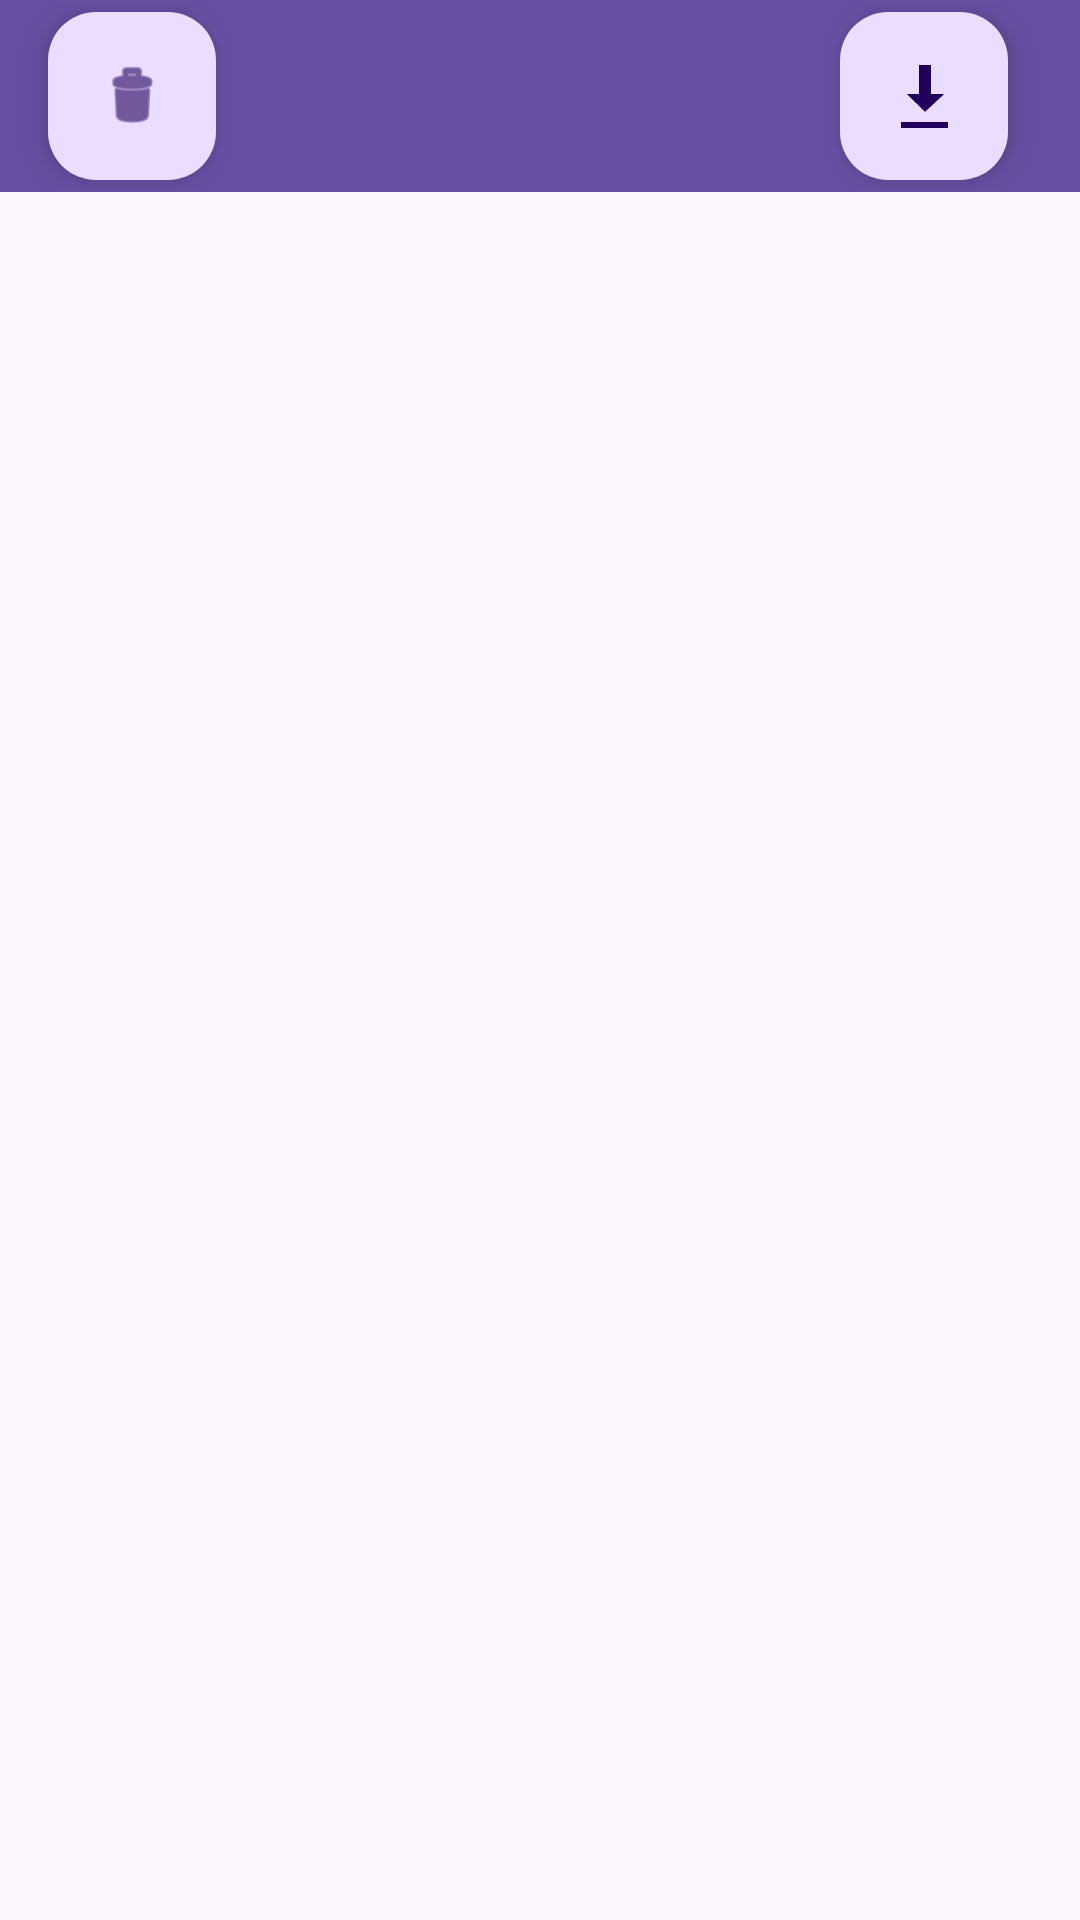

Icon bounding boxes for this 1080x1920 phone screenshot, format bbox(x1, y1, x2, y2):
delete: bbox(48, 12, 216, 180)
download: bbox(840, 12, 1008, 180)
